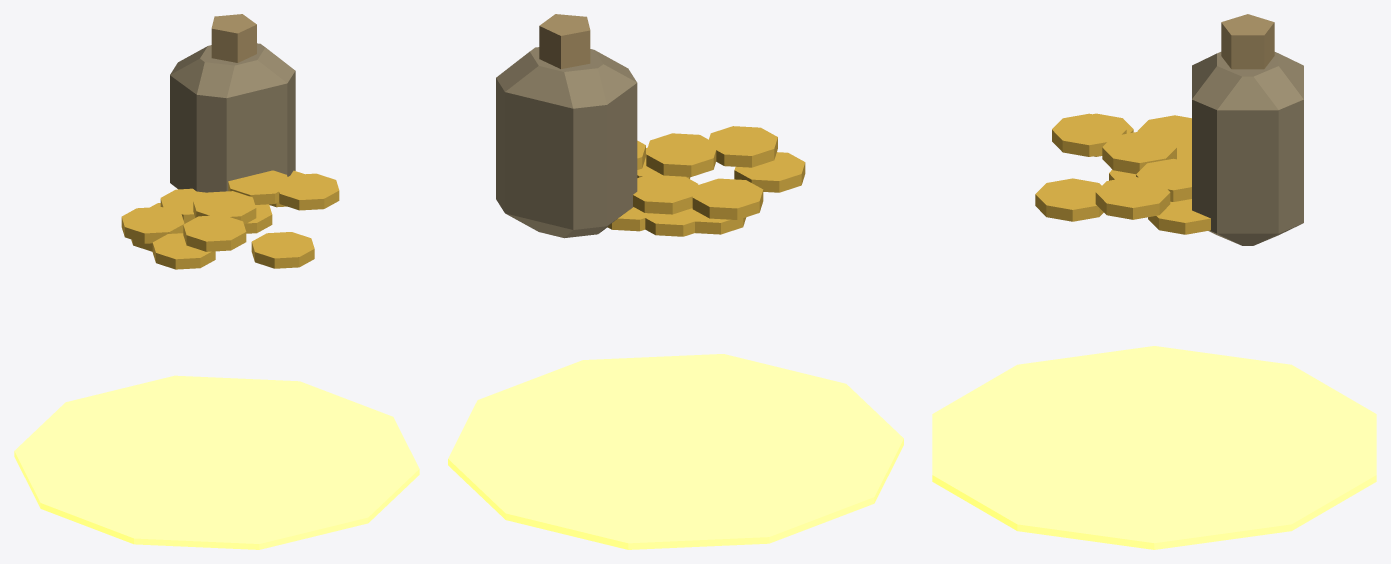
File: SM_Item_Monete.glb
3 views of the same model, side by side, from view 1: azimuth 30°, elevation 25°; view 2: azimuth 150°, elevation 25°; view 3: azimuth 270°, elevation 25° (orthographic). The views are drawn at different scales.
Visible parts, largest first — view 1: SM_Item_Monete, Item; view 2: SM_Item_Monete, Item; view 3: SM_Item_Monete, Item.
Boxes of the visible parts, left/top/right/bottom form: SM_Item_Monete: left=14, top=375, right=419, bottom=549; Item: left=121, top=14, right=339, bottom=269; SM_Item_Monete: left=448, top=354, right=903, bottom=549; Item: left=496, top=14, right=805, bottom=238; SM_Item_Monete: left=932, top=346, right=1376, bottom=549; Item: left=1035, top=14, right=1303, bottom=245.
Bounding box in the file's own units: 0.5 × 0.54 × 0.4755.
1 material, 1 textured.
